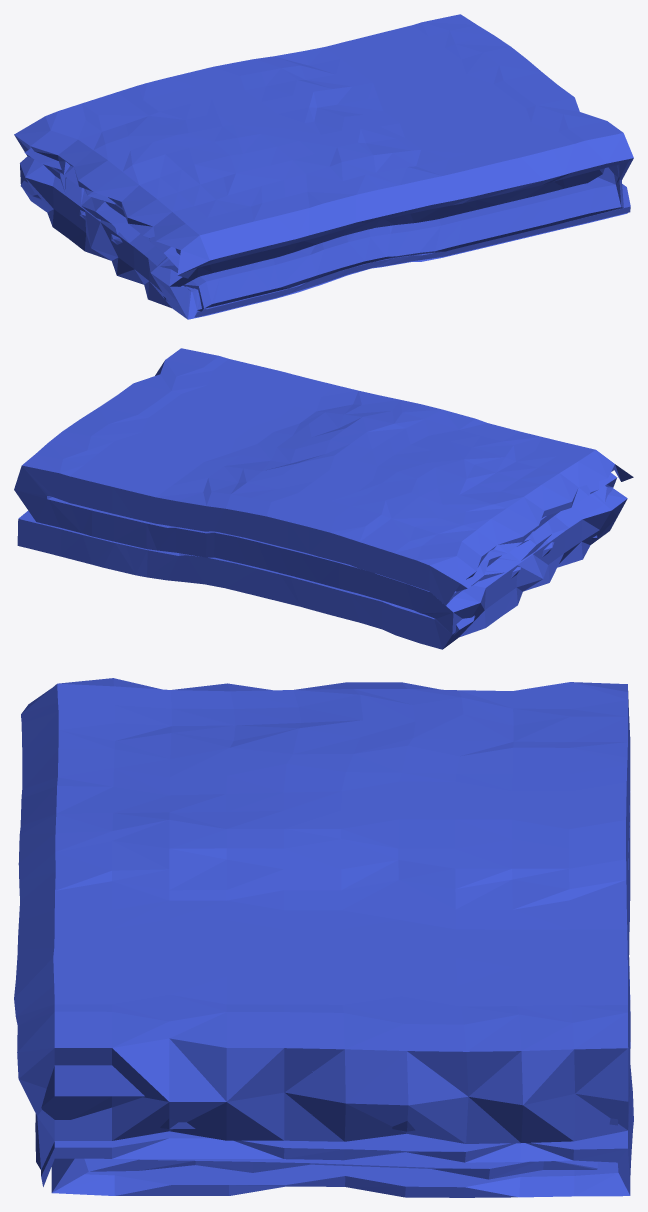
The model's file is com_bath3_toalla.obj.
The picture shows the model from 3 angles, top to bottom: view 1: azimuth 30°, elevation 25°; view 2: azimuth 150°, elevation 25°; view 3: azimuth 270°, elevation 25°; orthographic projection. The views are drawn at different scales.
Parts seen in each view (by area): view 1: 1_1; view 2: 1_1; view 3: 1_1.
Part boxes in pixels (x1,y1,x2,y2): 1_1: (14,14,633,319); 1_1: (14,348,633,649); 1_1: (14,678,633,1197).
Size of the model in its own units: 17.87 by 3.39 by 11.65.
